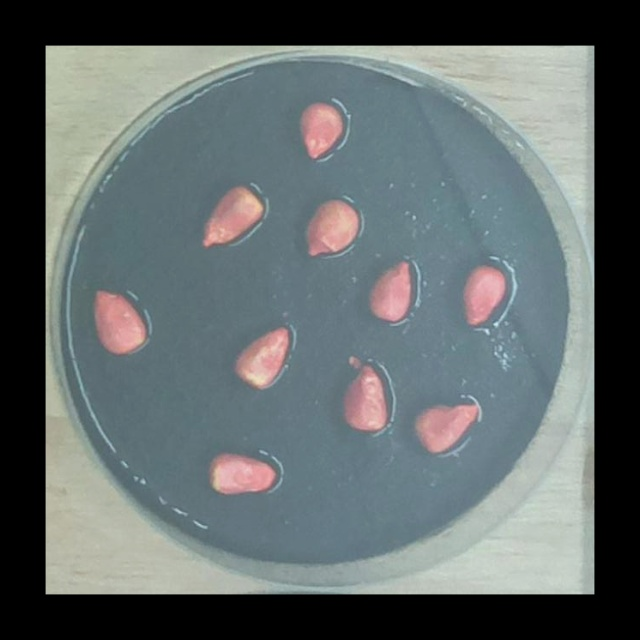Zea mays: (197, 176, 271, 255), (406, 392, 486, 461), (86, 280, 152, 358), (228, 319, 296, 394), (335, 352, 392, 438), (299, 191, 366, 264), (201, 444, 283, 500), (292, 94, 352, 167), (457, 256, 512, 334), (361, 253, 417, 328)
